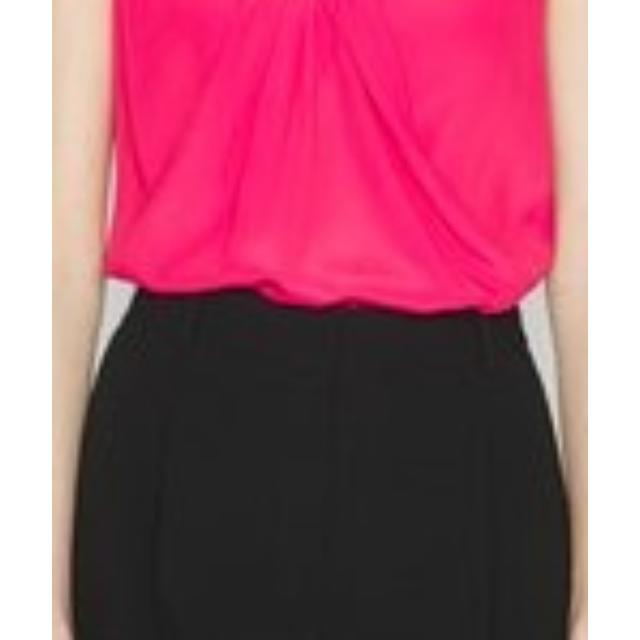silk: (87, 1, 576, 336)
